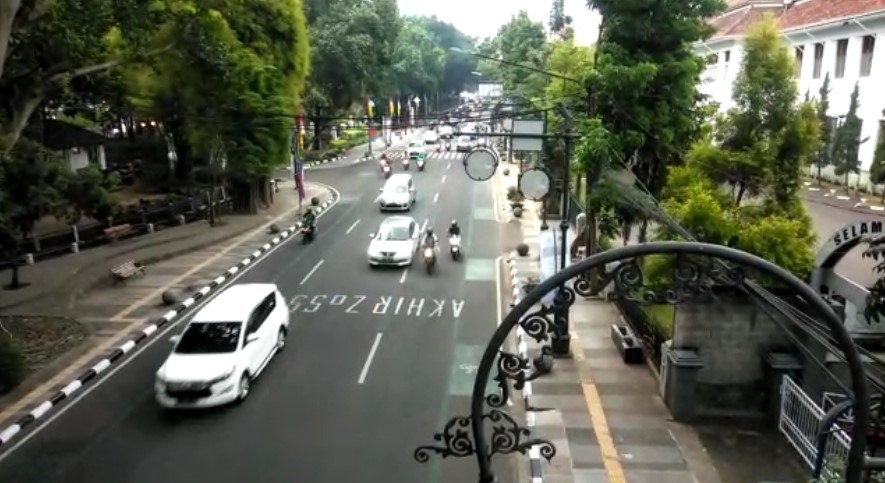mobil: (149, 283, 291, 413), (369, 215, 421, 268), (377, 173, 416, 212)
motor: (422, 229, 440, 274), (299, 206, 318, 242), (447, 221, 464, 260)
